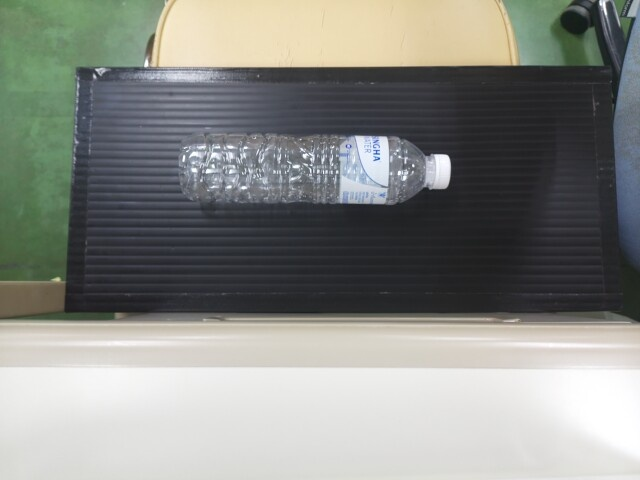plastic_bottle: (174, 132, 452, 206)
